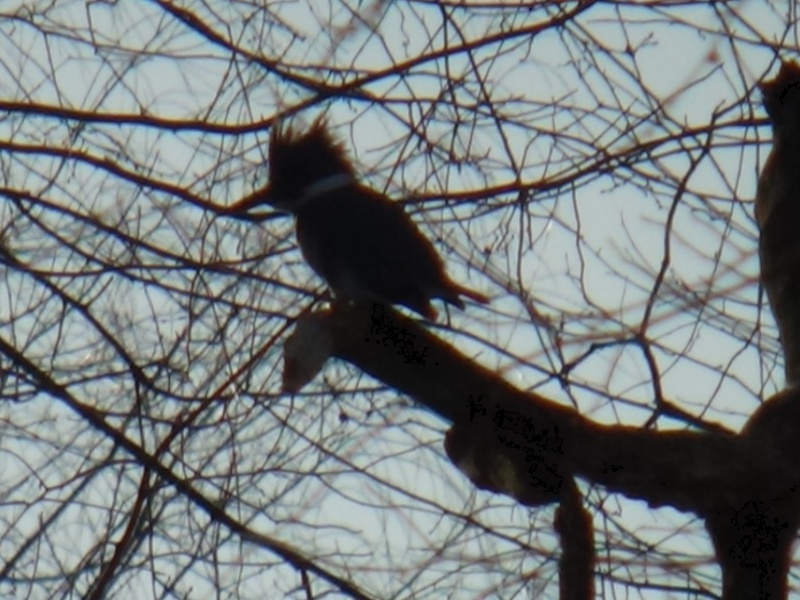kingfisher: (212, 108, 486, 346)
